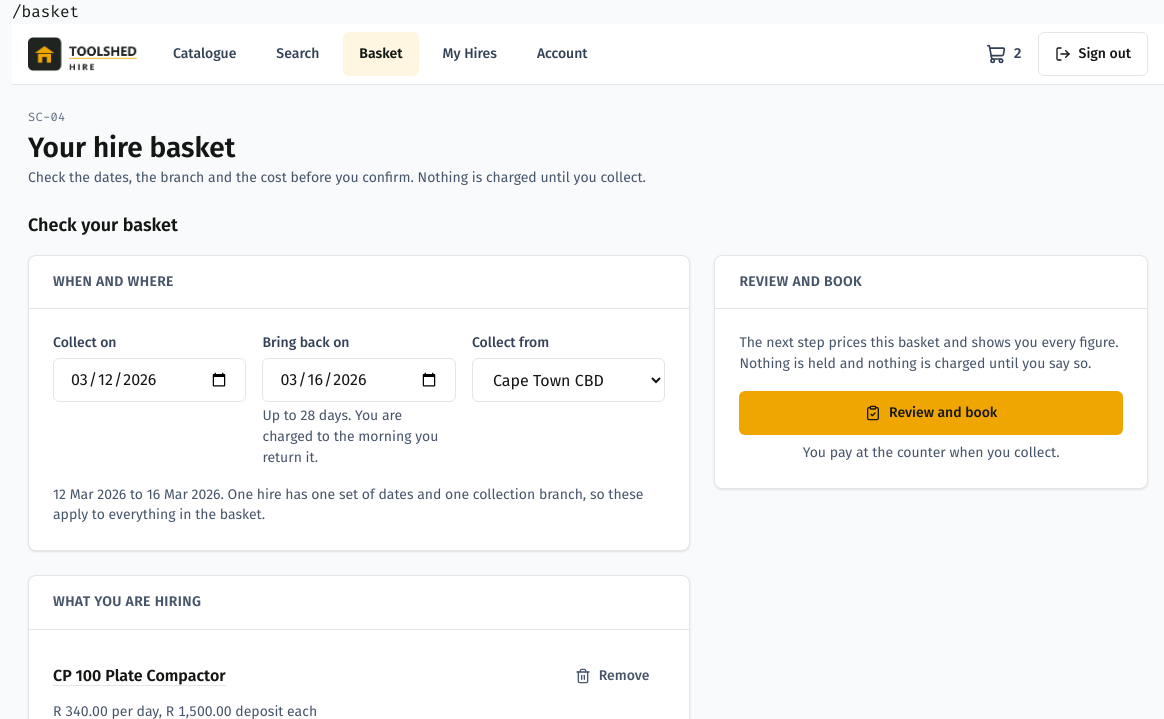
Scenario: holding the equipment › says so when the hold fails some other way, and holds on a retry
Click the button "Review and book": (931, 413) x1=739 y1=391 x2=1123 y2=435
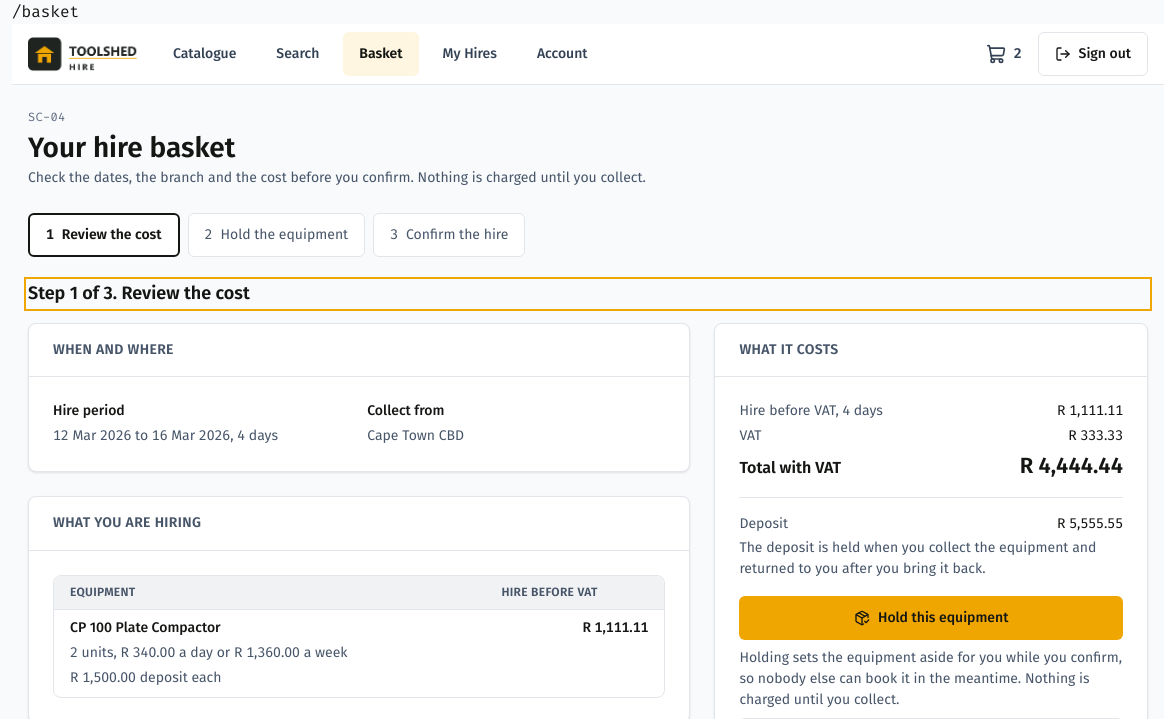
Click the button "Hold this equipment": (931, 618) x1=739 y1=596 x2=1123 y2=640
(page scrolled)
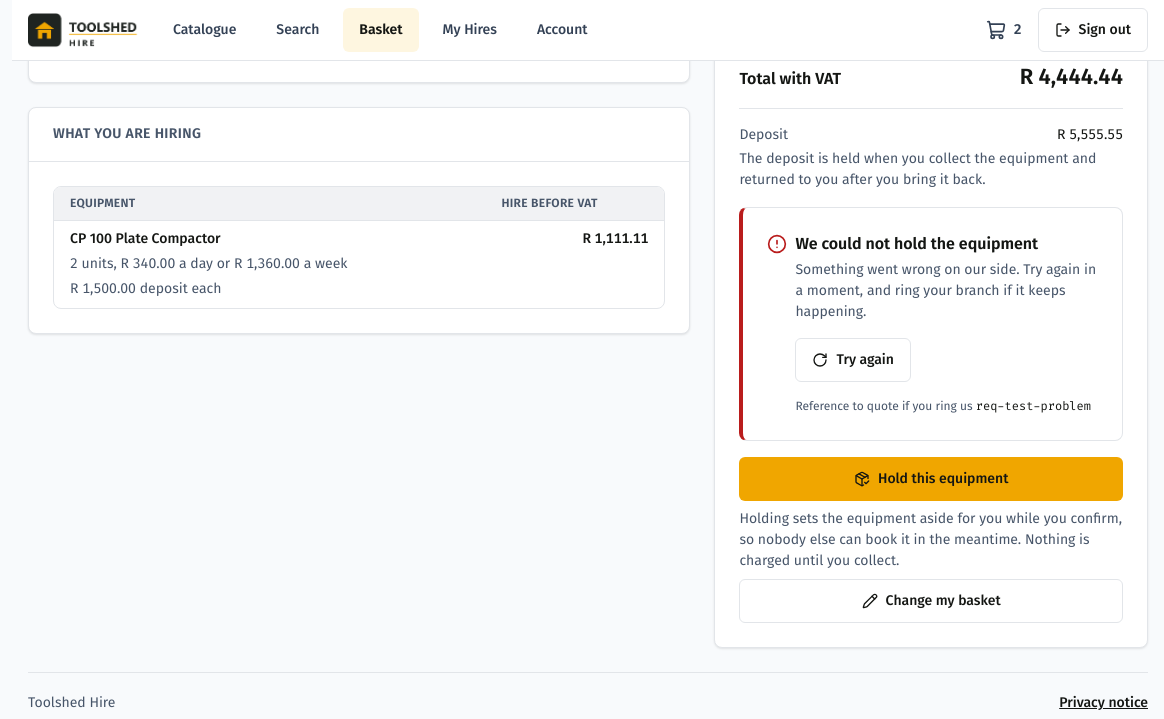
Expected: the message shows "We could not hold the equipment", x1=795 y1=234 x2=1038 y2=253
Click the button "Try again": (853, 360) x1=795 y1=338 x2=911 y2=382
(page scrolled)
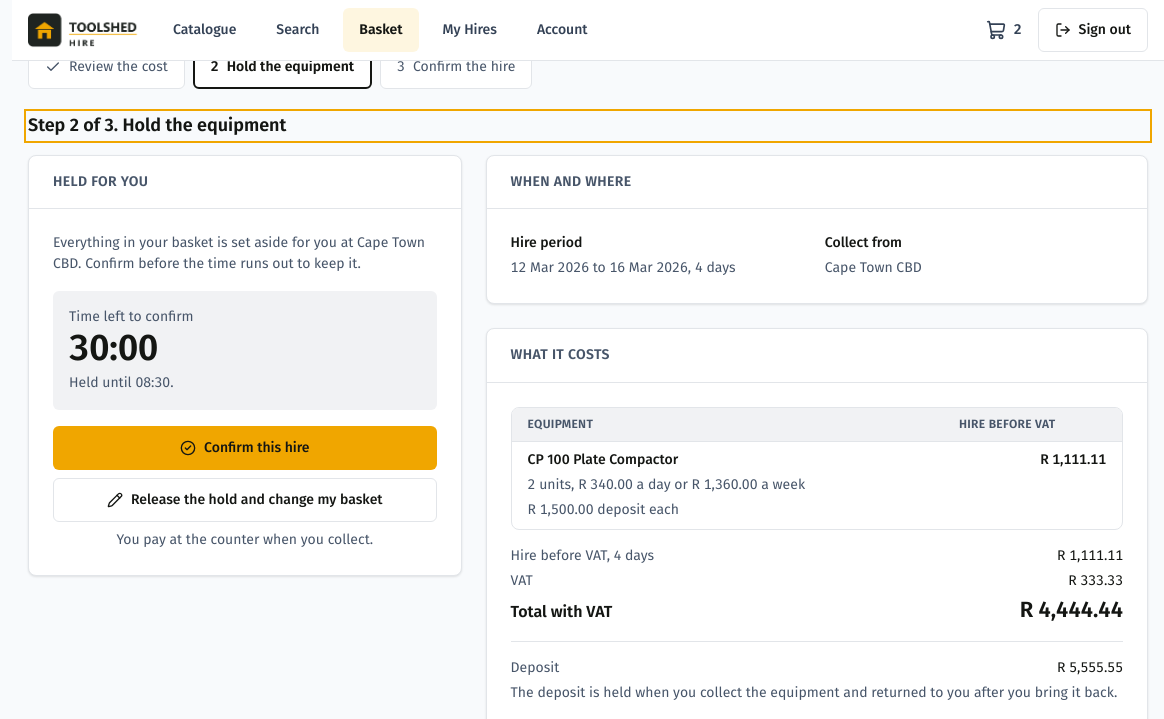
Expected: the heading "Step 2 of 3. Hold the equipment" is shown, x1=28 y1=113 x2=1148 y2=139
Expected: the message is gone
